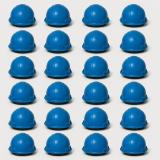Helmet: (43, 3, 72, 26), (81, 3, 110, 26), (119, 3, 148, 26), (119, 29, 148, 52), (8, 55, 37, 78), (8, 3, 36, 26), (82, 29, 110, 52), (119, 55, 148, 77), (8, 132, 37, 154), (120, 81, 148, 103), (120, 107, 148, 129), (120, 132, 148, 154), (82, 132, 110, 154), (8, 30, 36, 52), (44, 30, 72, 52), (82, 56, 110, 78), (82, 106, 110, 128), (82, 82, 110, 104), (44, 56, 72, 78), (8, 81, 36, 103), (8, 106, 36, 128), (44, 132, 72, 154), (44, 106, 72, 128), (44, 81, 72, 103)
